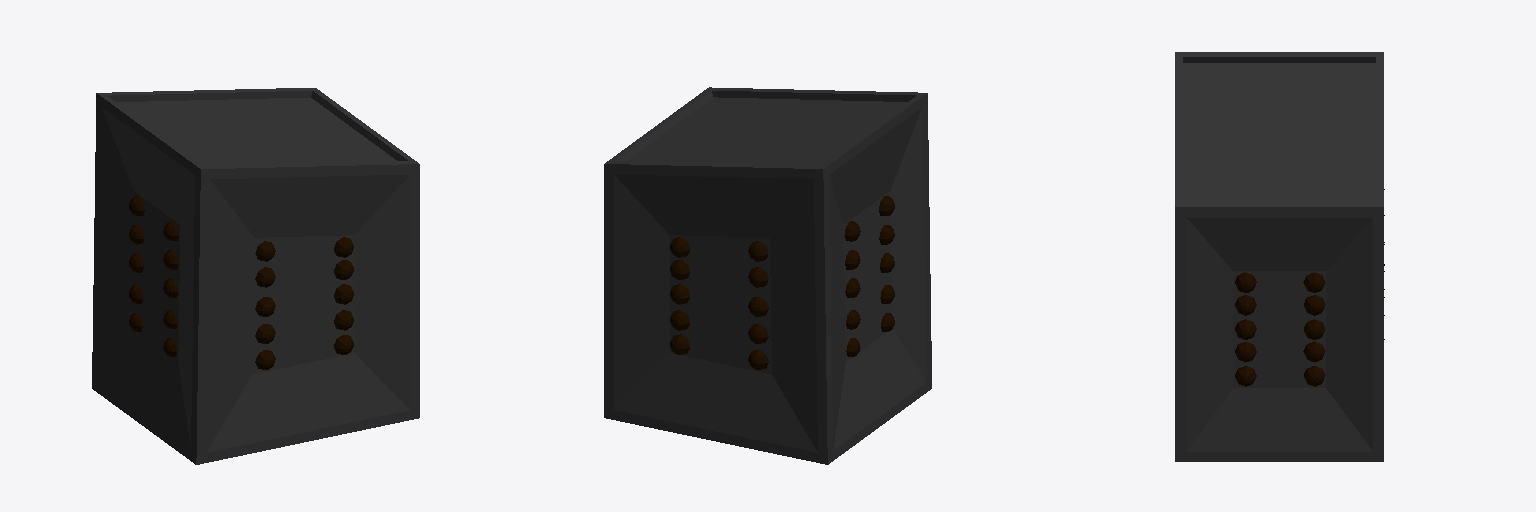
Rendered from ConsoleHolder.obj.
3 views of the same model, side by side, from view 1: azimuth 30°, elevation 25°; view 2: azimuth 150°, elevation 25°; view 3: azimuth 270°, elevation 25° (orthographic).
Parts seen in each view (by area): view 1: Cube; view 2: Cube; view 3: Cube.
Part boxes in pixels (bbox=[...]): Cube: bbox=[92, 88, 419, 464]; Cube: bbox=[604, 87, 931, 464]; Cube: bbox=[1175, 52, 1384, 461].
Bounding box in the file's own units: 1.16 × 1.5 × 0.9384.